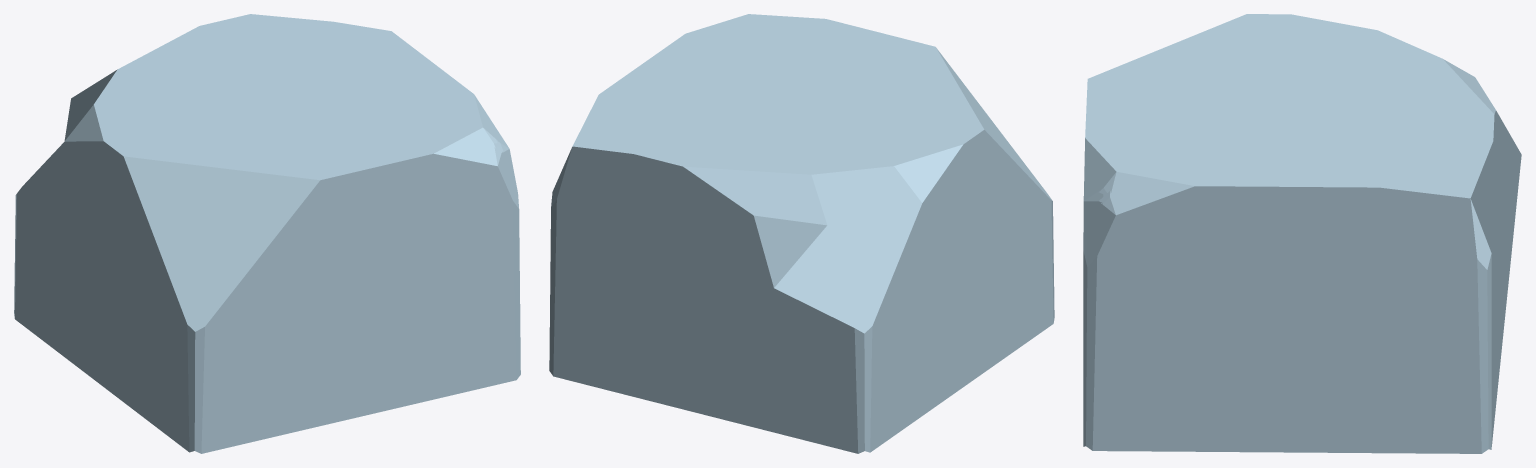
The model's file is Checkpoint Pillars1.fbx.
3 renders of one model, left to right at view 1: azimuth 30°, elevation 25°; view 2: azimuth 150°, elevation 25°; view 3: azimuth 270°, elevation 25°, orthographic. The views are drawn at different scales.
Visible parts, largest first — view 1: Pillar 4; view 2: Pillar 4; view 3: Pillar 4.
Part boxes in pixels (box(x1,y1,x2,y2)): Pillar 4: box(14, 14, 520, 453); Pillar 4: box(549, 14, 1054, 453); Pillar 4: box(1083, 14, 1521, 453).
Size of the model in its own units: 124 by 87.59 by 131.
